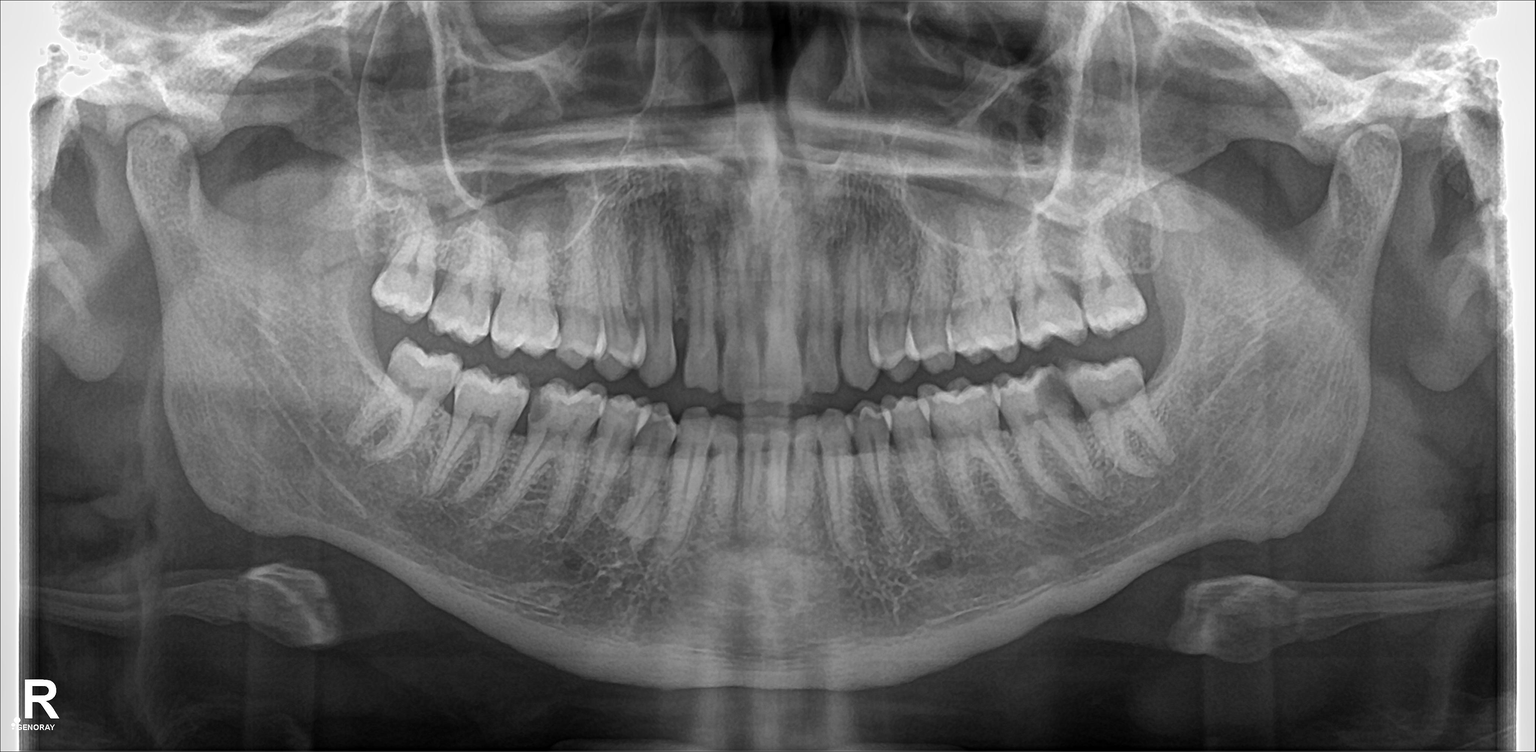Dental Caries: (1028, 380, 1074, 422)
